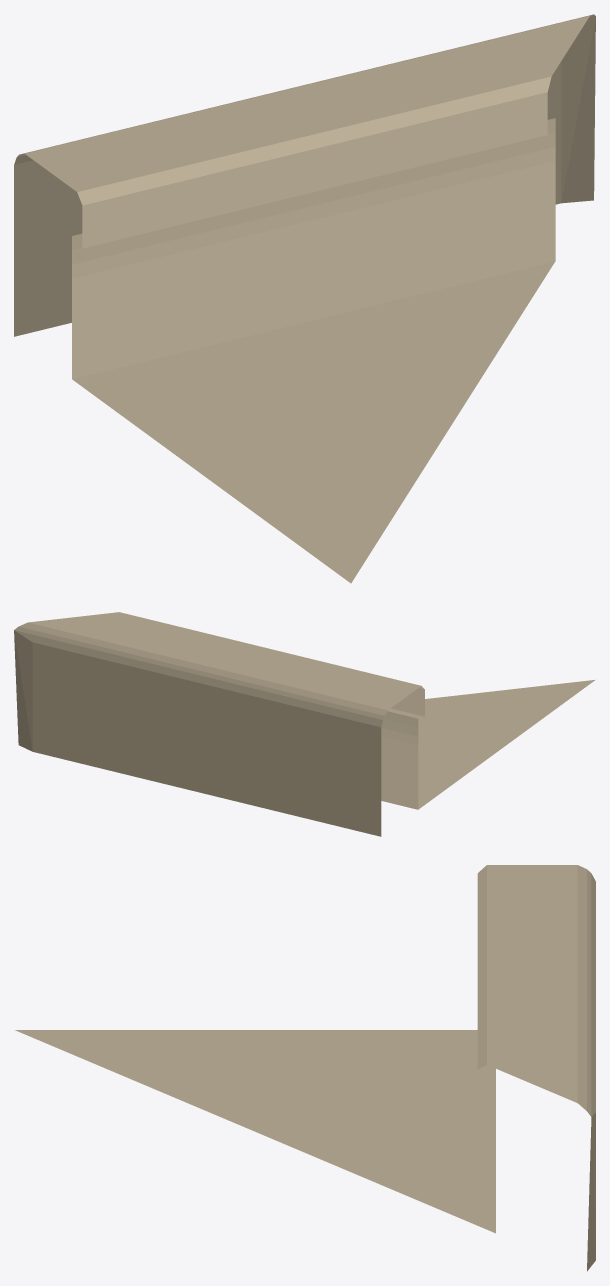
3 views of the same model, one above another, from view 1: azimuth 30°, elevation 25°; view 2: azimuth 150°, elevation 25°; view 3: azimuth 270°, elevation 25° (orthographic). The views are drawn at different scales.
Parts seen in each view (by area): view 1: model; view 2: model; view 3: model.
Part boxes in pixels (bbox=[...]): model: bbox=[14, 14, 595, 583]; model: bbox=[14, 612, 595, 836]; model: bbox=[15, 865, 595, 1271].
Size of the model in its own units: 0.9922 by 0.3125 by 1.
